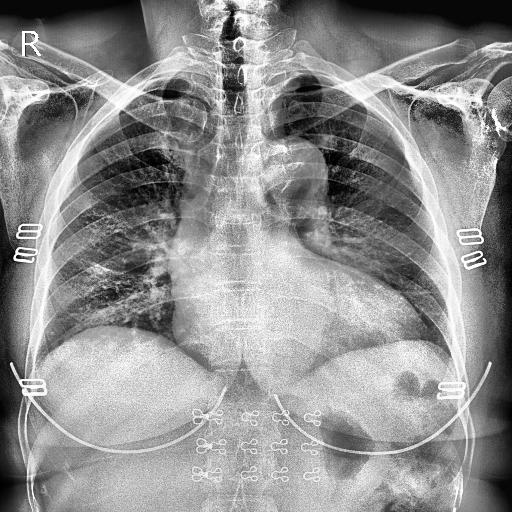0- Aortic enlargement: (247, 138, 329, 221), (255, 132, 330, 208), (258, 140, 328, 220)
3- Cardiomegaly: (168, 268, 432, 353), (170, 309, 426, 379), (167, 303, 431, 370)
